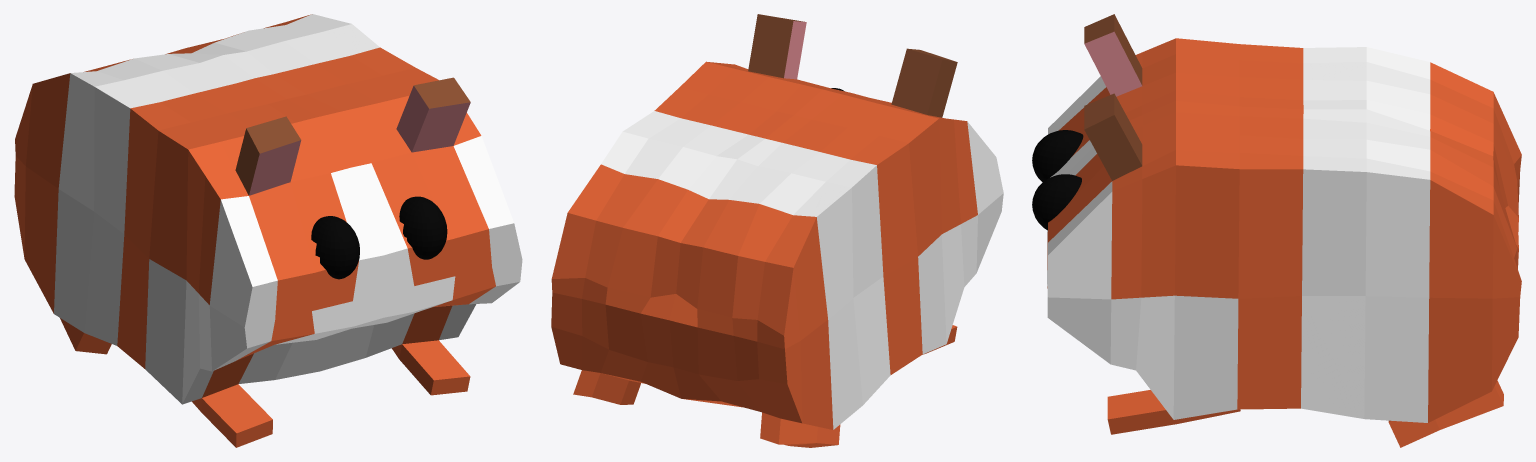
The model's file is morumotto.fbx.
3 renders of one model, left to right at view 1: azimuth 30°, elevation 25°; view 2: azimuth 150°, elevation 25°; view 3: azimuth 270°, elevation 25°, orthographic. The views are drawn at different scales.
Parts seen in each view (by area): view 1: モルモット, 右目, 左目; view 2: モルモット; view 3: モルモット, 右目, 左目.
Part boxes in pixels (x1,y1,x2,y2): モルモット: (14, 14, 522, 447); 右目: (311, 216, 359, 279); 左目: (399, 196, 447, 259); モルモット: (551, 14, 1003, 447); モルモット: (1047, 14, 1521, 447); 右目: (1032, 130, 1083, 182); 左目: (1032, 174, 1081, 230).
Size of the model in its own units: 158 by 176 by 235.
